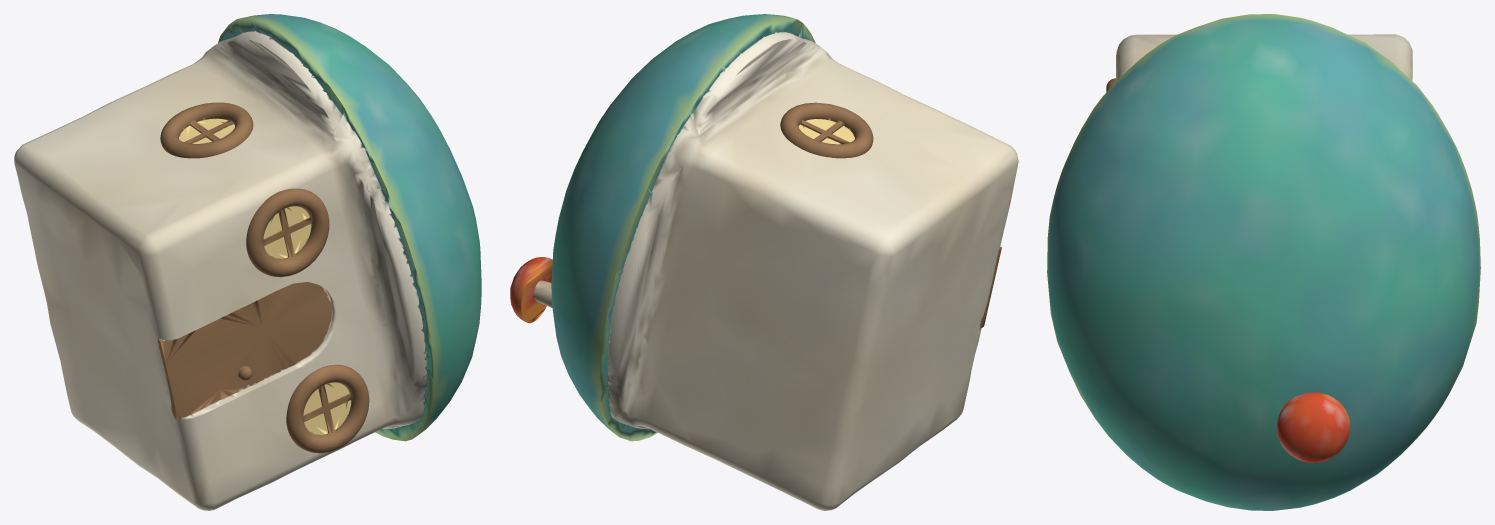
File: monopoly-house-toppled.glb
3 views of the same model, side by side, from view 1: azimuth 30°, elevation 25°; view 2: azimuth 150°, elevation 25°; view 3: azimuth 270°, elevation 25° (orthographic). The views are drawn at different scales.
Parts seen in each view (by area): view 1: monopoly_house, porthole_window.1, porthole_window.0, porthole_window.3; view 2: monopoly_house, porthole_window.3; view 3: monopoly_house.
Boxes of the visible parts, x1,y1,x2,y2 form: monopoly_house: (14,14,481,510); porthole_window.1: (246,188,329,277); porthole_window.0: (286,364,369,453); porthole_window.3: (160,102,253,158); monopoly_house: (510,14,1018,510); porthole_window.3: (780,102,873,158); monopoly_house: (1047,14,1480,510).
Size of the model in its own units: 3.68 by 3.52 by 3.08.
